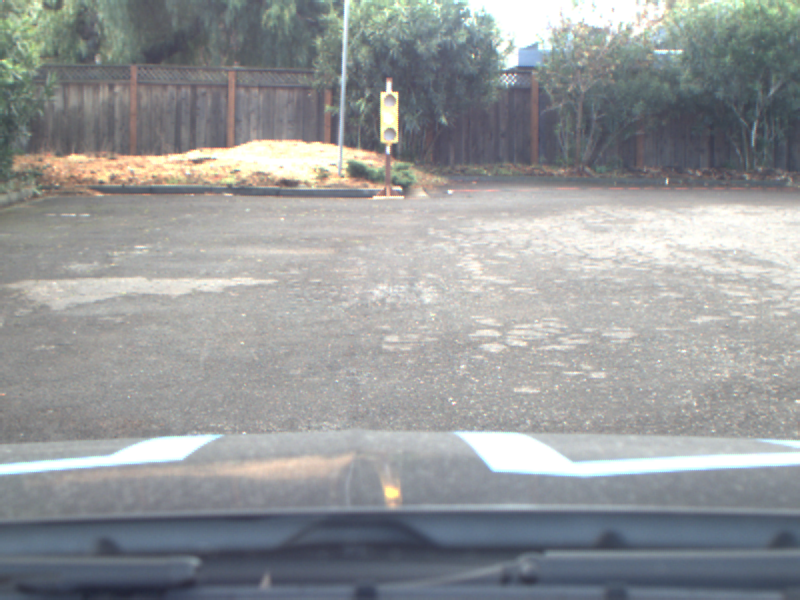Yellow: (380, 92, 398, 144)
